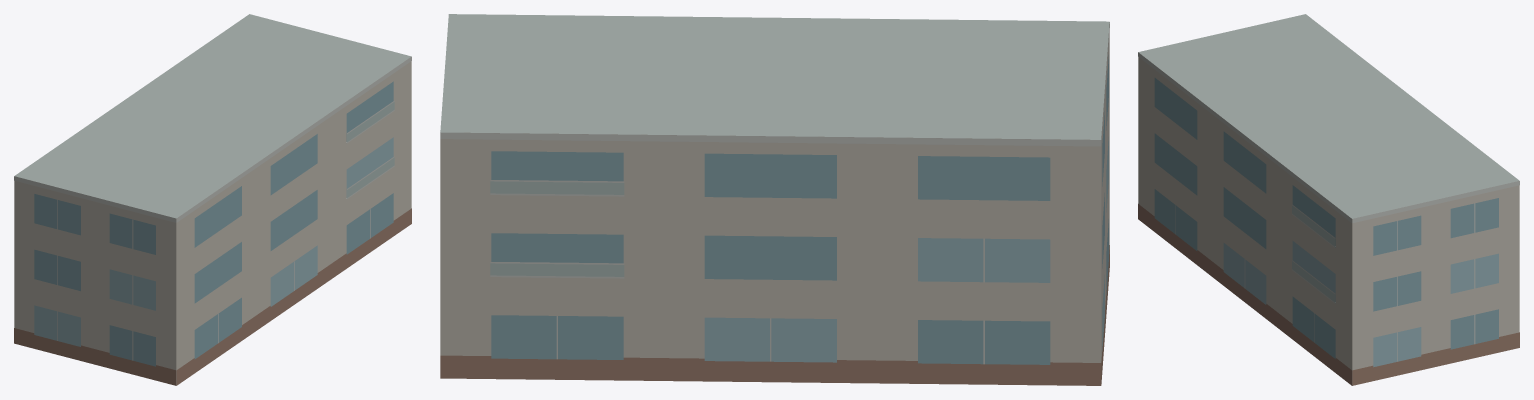
The model's file is survey-upis-32999687.glb.
The picture shows the model from 3 angles, left to right: view 1: azimuth 30°, elevation 25°; view 2: azimuth 150°, elevation 25°; view 3: azimuth 270°, elevation 25°; orthographic projection. The views are drawn at different scales.
Visible parts, largest first — view 1: survey-upis-32999687.tmp; view 2: survey-upis-32999687.tmp; view 3: survey-upis-32999687.tmp.
Part boxes in pixels (x1,y1,x2,y2): survey-upis-32999687.tmp: [14, 14, 411, 385]; survey-upis-32999687.tmp: [440, 14, 1109, 385]; survey-upis-32999687.tmp: [1138, 14, 1519, 385].
Bounding box in the file's own units: 24.08 × 9.15 × 18.96.
